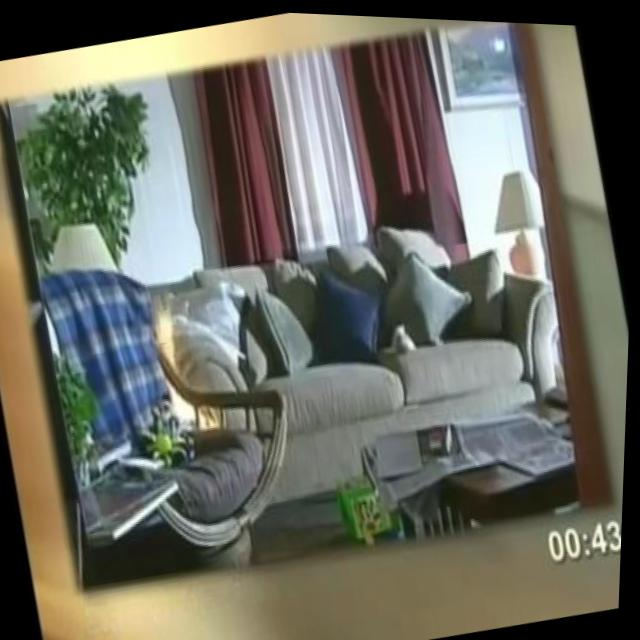fire: (143, 285, 232, 439)
